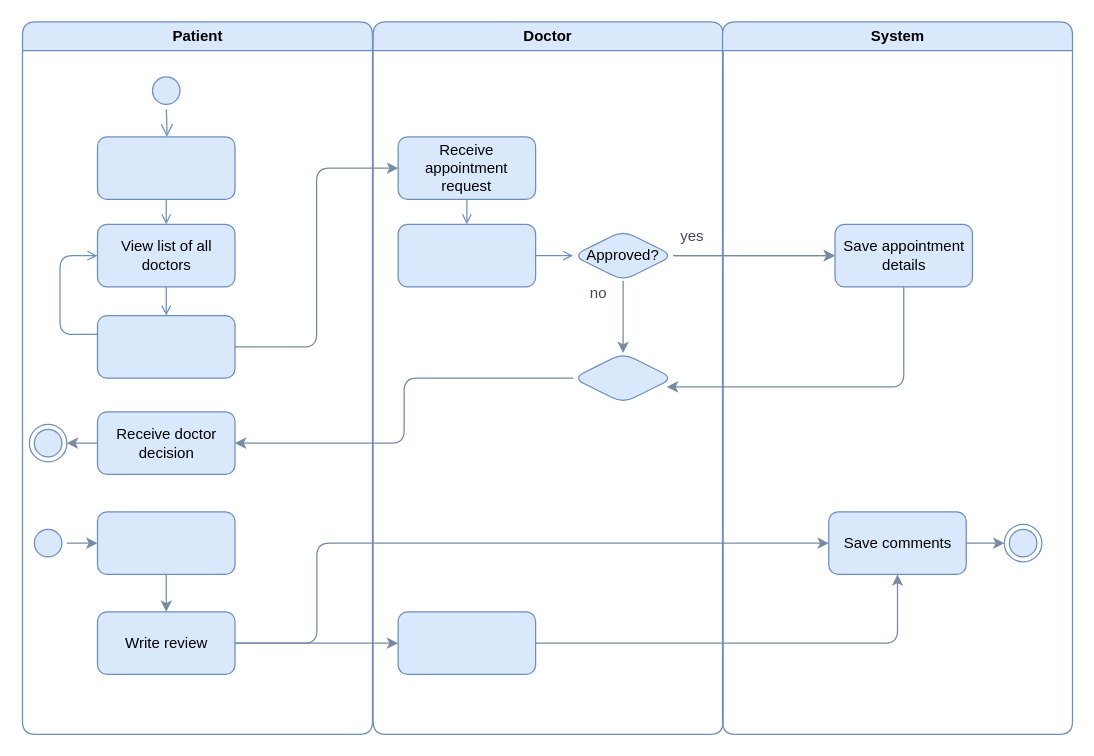
Image size: 1094x756. Some labels were removed from this diagram. The shapes that lost their labels are listed below. From the top down, each one's centre as x and y in pixels, then its label:
At (x=165, y=167): "Login".
At (x=466, y=255): "Answer request".
At (x=165, y=346): "Choose a doctor to make an appoinment".
At (x=165, y=542): "Visit doctor".
At (x=466, y=642): "Answer review".
